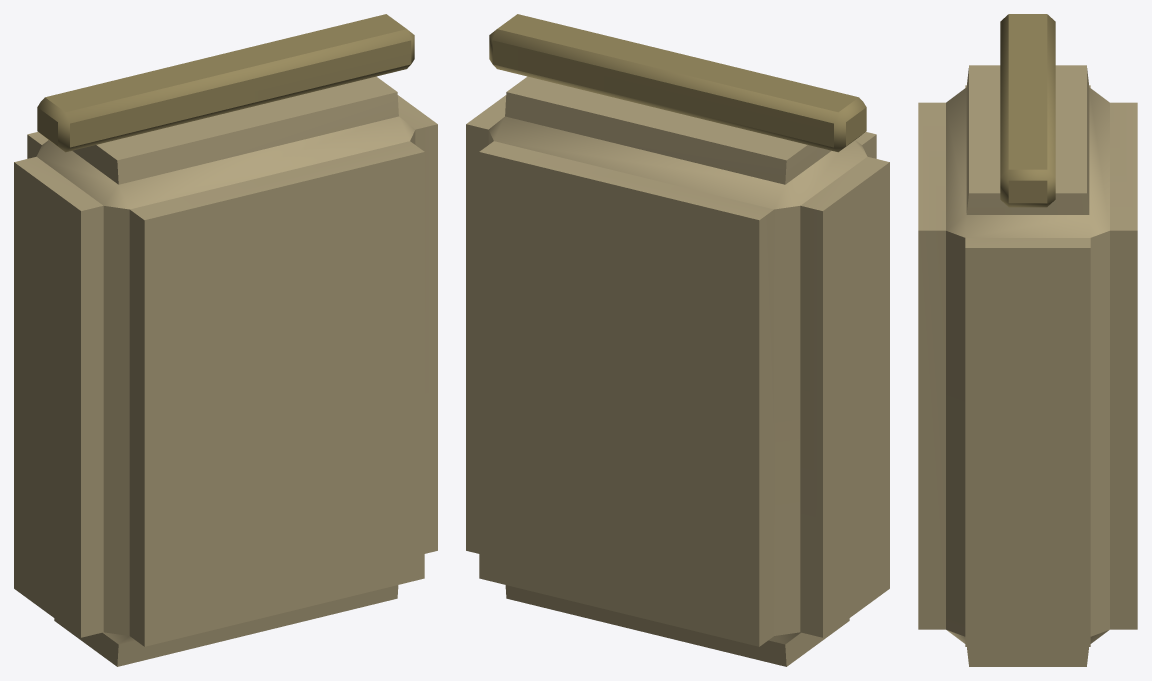
File: mkt-rice-bag.glb
The picture shows the model from 3 angles, left to right: view 1: azimuth 30°, elevation 25°; view 2: azimuth 150°, elevation 25°; view 3: azimuth 270°, elevation 25°; orthographic projection. The views are drawn at different scales.
Parts seen in each view (by area): view 1: pack__plastic; view 2: pack__plastic; view 3: pack__plastic.
Part boxes in pixels (bbox=[...]): pack__plastic: bbox=[14, 14, 437, 666]; pack__plastic: bbox=[466, 14, 889, 666]; pack__plastic: bbox=[918, 14, 1137, 666].
Bounding box in the file's own units: 0.28 × 0.41 × 0.1595.
